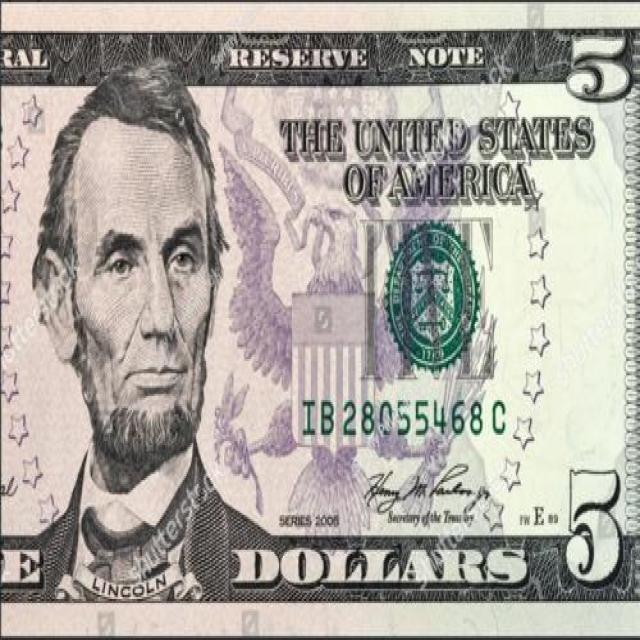5-Front: (0, 2, 640, 638)
